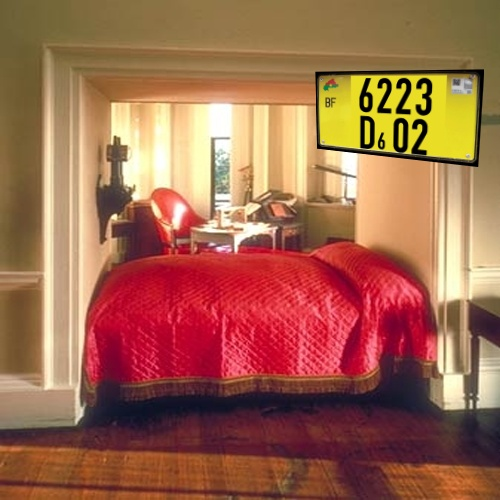plate: (301, 51, 499, 182)
